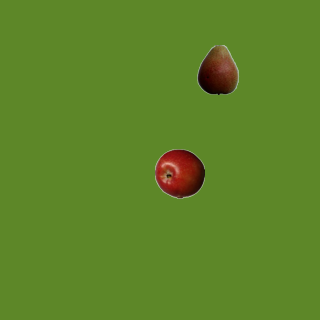Apple Braeburn: (154, 148, 204, 198)
Pear Forelle: (192, 44, 242, 94)
